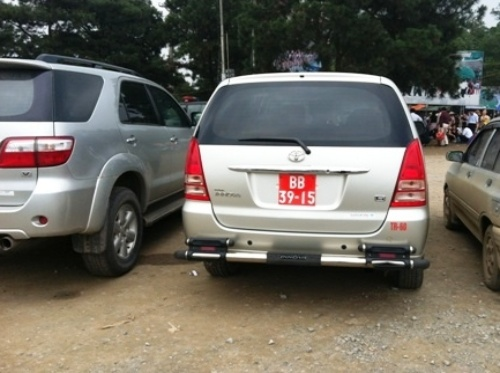plate: (275, 171, 318, 205)
